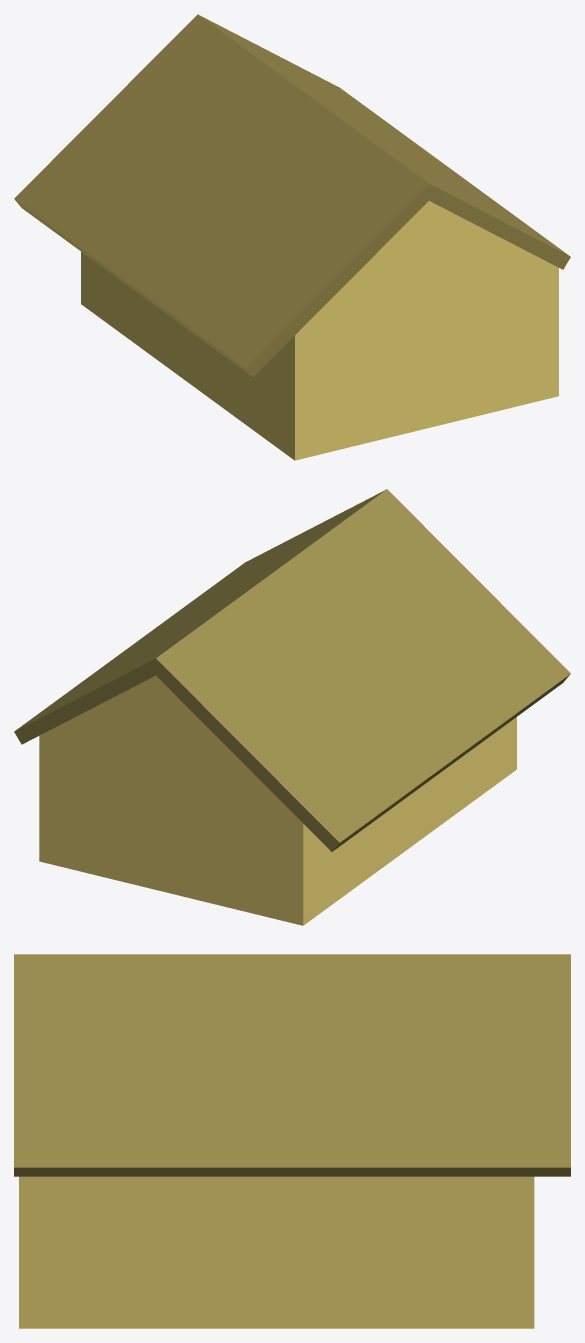
Rendered from result.glb.
3 renders of one model, top to bottom at view 1: azimuth 30°, elevation 25°; view 2: azimuth 150°, elevation 25°; view 3: azimuth 270°, elevation 25°, orthographic. The views are drawn at different scales.
Parts seen in each view (by area): view 1: ca010b06-02fd-4208-b48a-1071a92b114d__undefined (×2), 06dfdd2c-8432-49be-b300-dda406a2e110__undefined; view 2: ca010b06-02fd-4208-b48a-1071a92b114d__undefined (×2), 06dfdd2c-8432-49be-b300-dda406a2e110__undefined; view 3: ca010b06-02fd-4208-b48a-1071a92b114d__undefined, 06dfdd2c-8432-49be-b300-dda406a2e110__undefined.
Part boxes in pixels (x1,y1,x2,y2): ca010b06-02fd-4208-b48a-1071a92b114d__undefined (×2): (14, 14, 570, 376); 06dfdd2c-8432-49be-b300-dda406a2e110__undefined: (81, 201, 558, 460); ca010b06-02fd-4208-b48a-1071a92b114d__undefined (×2): (14, 489, 570, 851); 06dfdd2c-8432-49be-b300-dda406a2e110__undefined: (39, 675, 516, 925); ca010b06-02fd-4208-b48a-1071a92b114d__undefined: (14, 954, 570, 1176); 06dfdd2c-8432-49be-b300-dda406a2e110__undefined: (19, 1176, 534, 1328).
Size of the model in its own units: 615 by 445 by 757.
